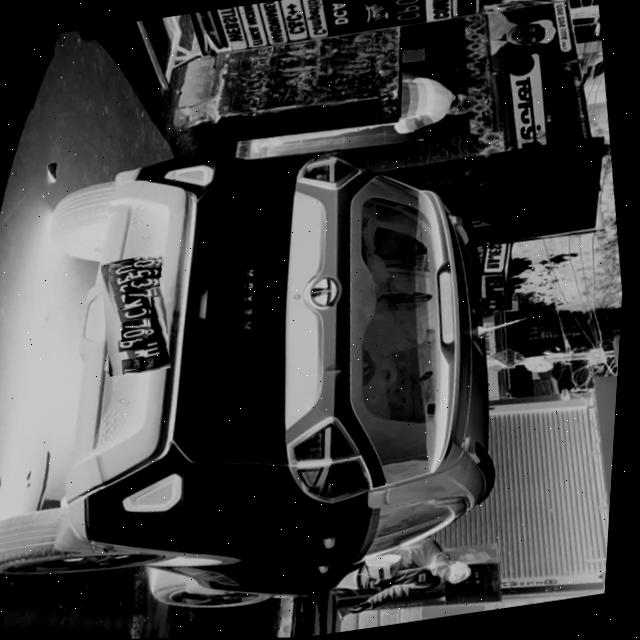0: (124, 327, 150, 341), (134, 259, 159, 271)
3: (129, 278, 157, 291)
5: (131, 267, 159, 282)
7: (125, 318, 152, 332), (127, 288, 158, 300)
C: (126, 306, 153, 321)
IND: (124, 356, 149, 373)
Indian_registered: (109, 259, 174, 373)
K: (126, 296, 155, 312)
M: (116, 347, 149, 363)
P: (121, 336, 150, 352)
